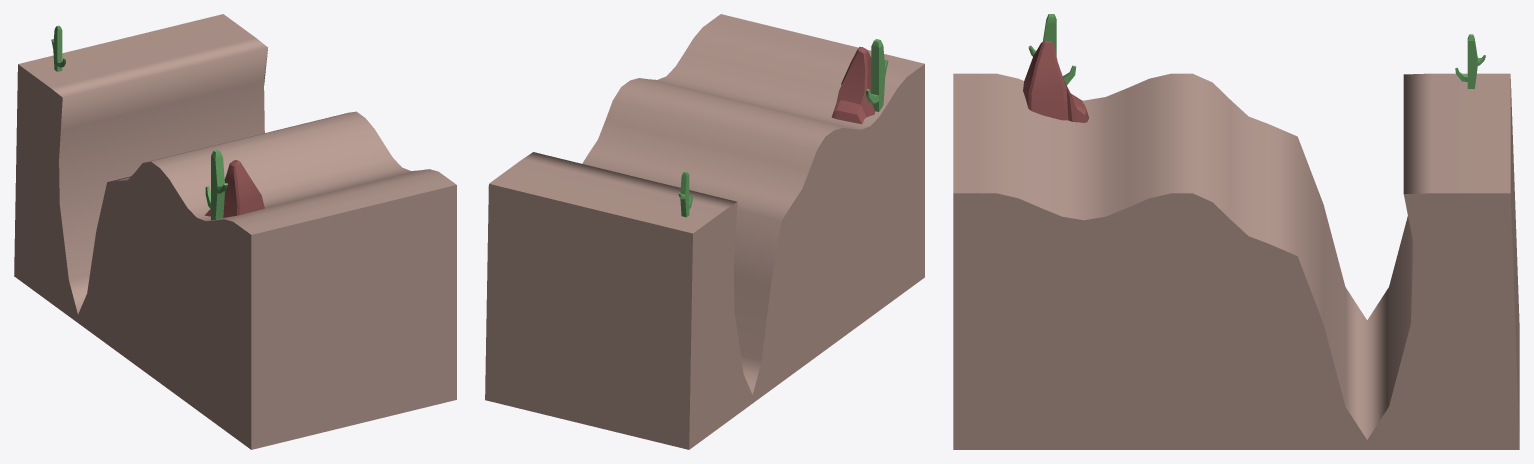
Rendered from New-Land-CHASM_LEFT.fbx.
3 renders of one model, left to right at view 1: azimuth 30°, elevation 25°; view 2: azimuth 150°, elevation 25°; view 3: azimuth 270°, elevation 25°, orthographic. The views are drawn at different scales.
Parts seen in each view (by area): view 1: Land_Modules:Chasm_Right, Rock__3_pCube5, pCube29, pCube28; view 2: Land_Modules:Chasm_Right, Rock__3_pCube5, pCube29, pCube28; view 3: Land_Modules:Chasm_Right, Rock__3_pCube5, pCube28, pCube29.
Boxes of the visible parts, left/top/right/bottom form: Land_Modules:Chasm_Right: left=14, top=14, right=456, bottom=449; Rock__3_pCube5: left=204, top=160, right=264, bottom=217; pCube29: left=205, top=149, right=227, bottom=220; pCube28: left=51, top=25, right=65, bottom=71; Land_Modules:Chasm_Right: left=485, top=14, right=924, bottom=449; Rock__3_pCube5: left=831, top=47, right=874, bottom=124; pCube29: left=866, top=39, right=888, bottom=111; pCube28: left=678, top=171, right=692, bottom=217; Land_Modules:Chasm_Right: left=953, top=73, right=1519, bottom=449; Rock__3_pCube5: left=1023, top=41, right=1088, bottom=122; pCube28: left=1455, top=34, right=1485, bottom=88; pCube29: left=1028, top=14, right=1076, bottom=85.
Bounding box in the file's own units: 1000 × 1242 × 2000.
